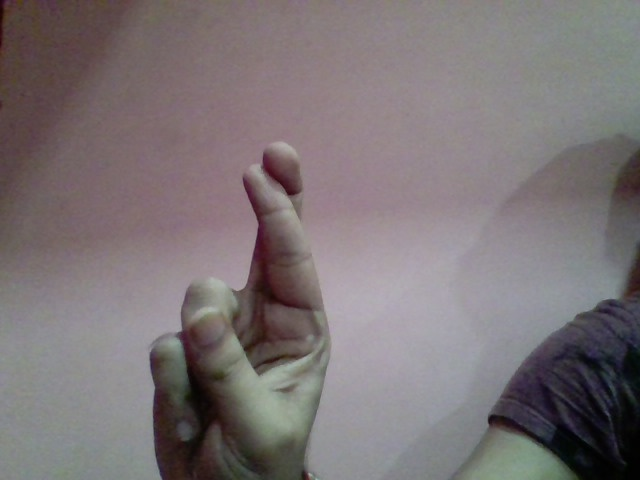r: (136, 133, 346, 471)
